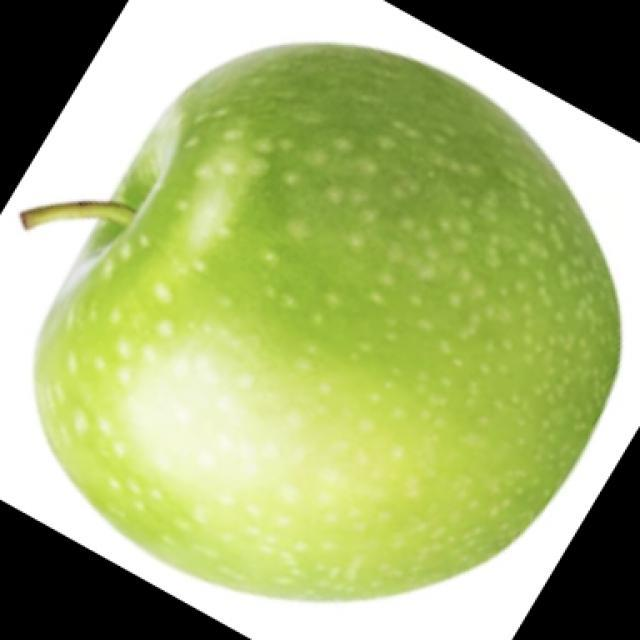Fresh Apple: (38, 43, 602, 590)
